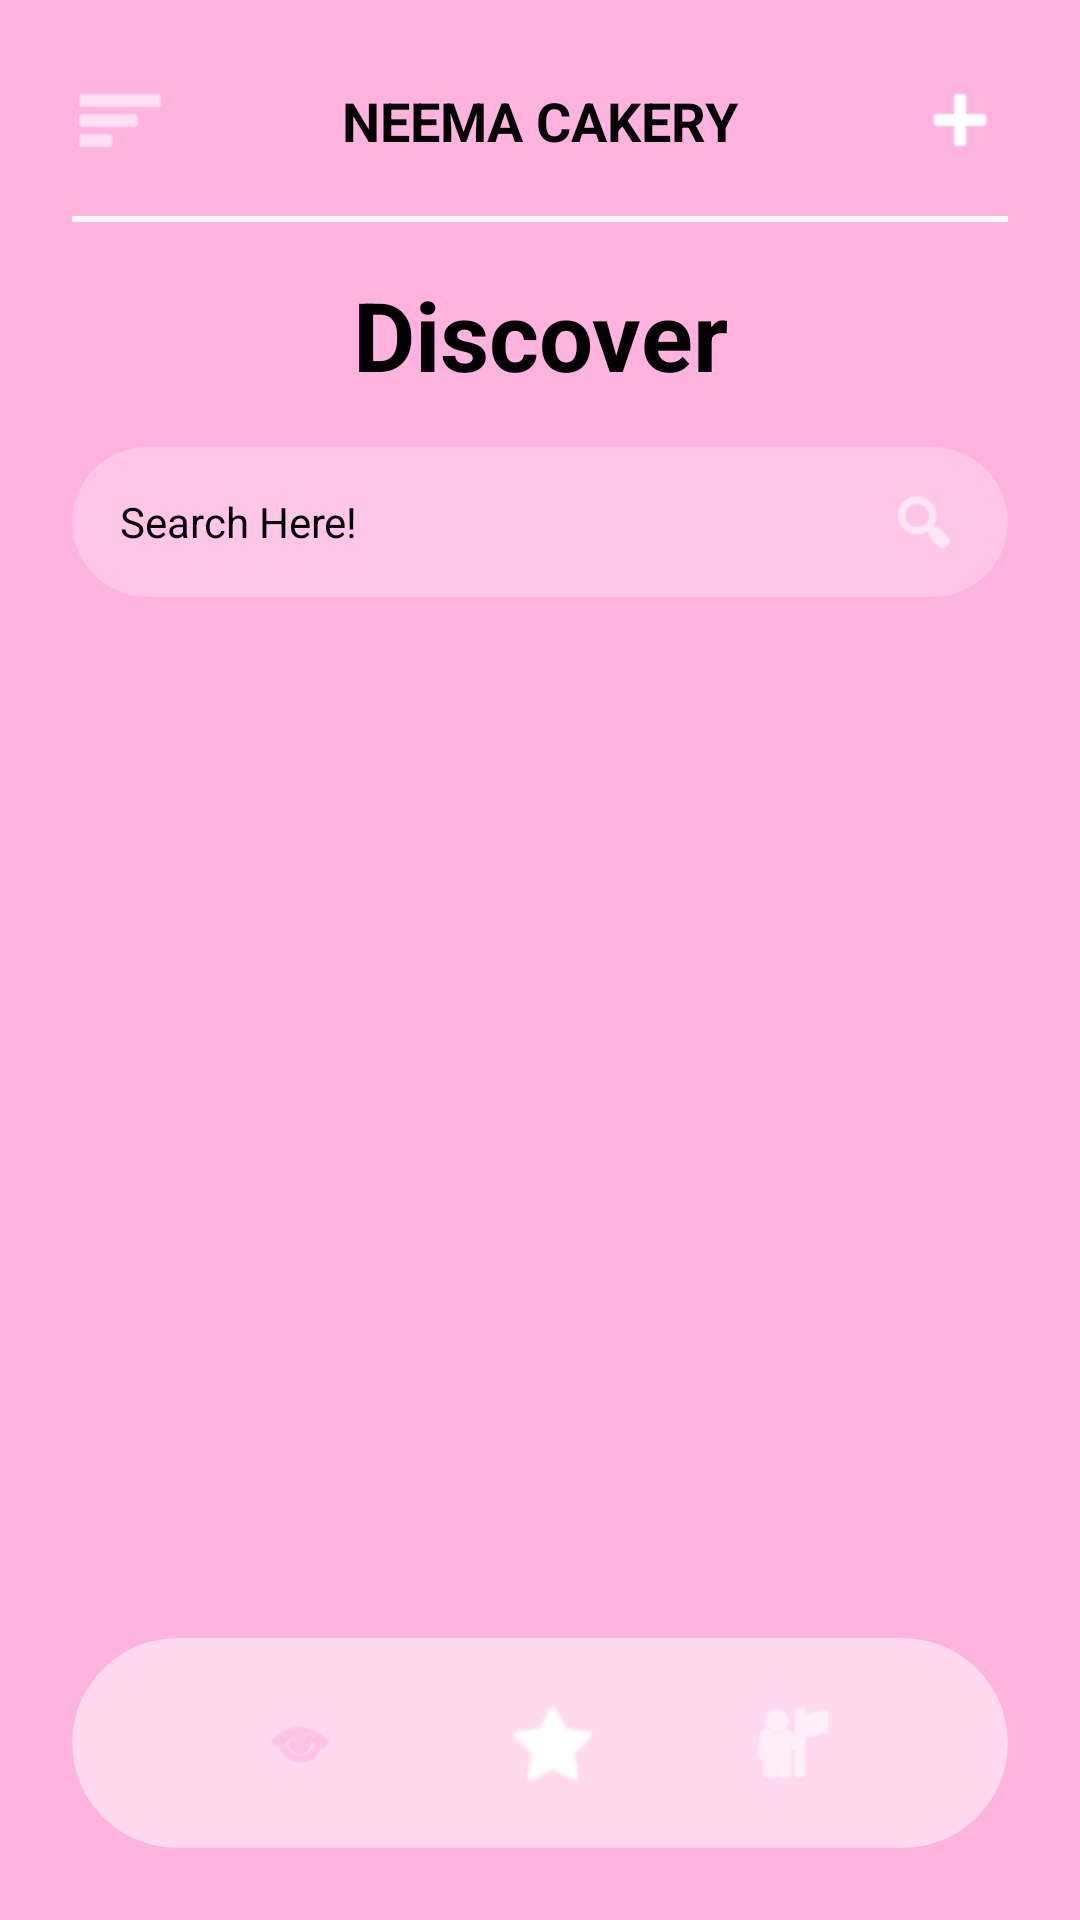

Named icons in this screenshot (1080 × 1920) and their bounding boxes, region(x1, y1, x2, y2):
add: region(933, 94, 987, 146)
sort by size: region(79, 94, 161, 147)
star on: region(515, 1707, 590, 1779)
